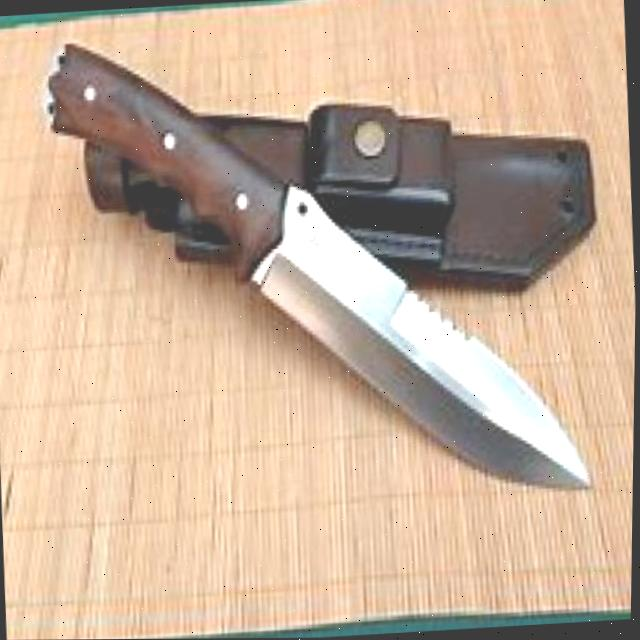pocket-knife: (28, 10, 613, 533)
